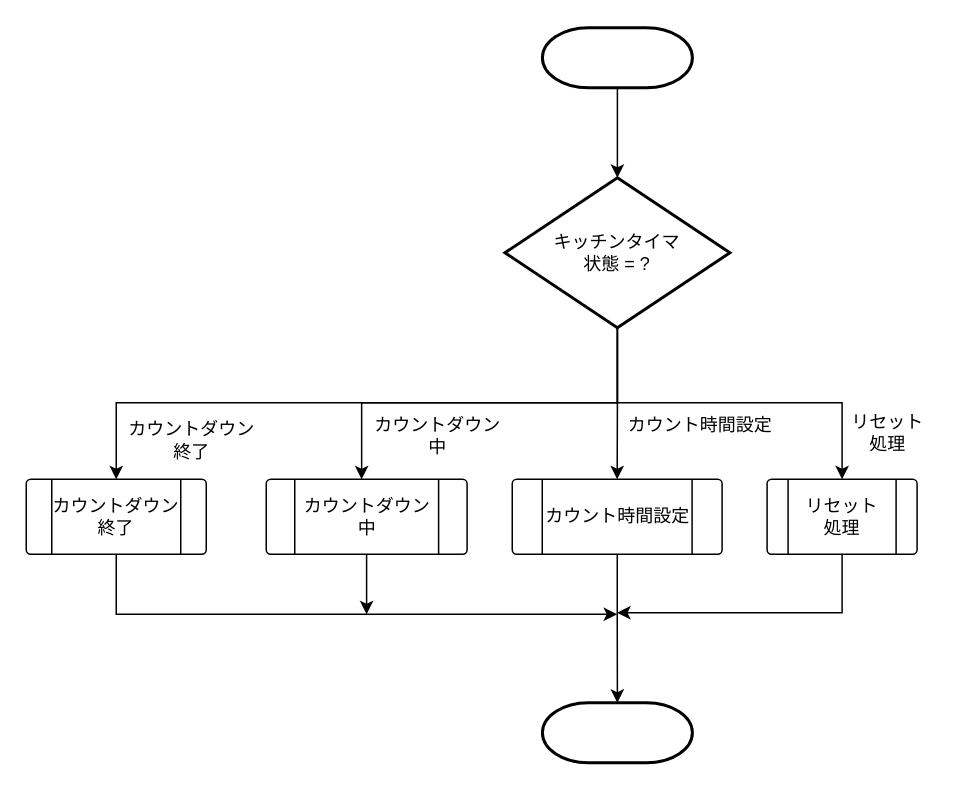
This 959x789 diagram has some shape labels left out. The centre of each missing label's shape, as x and y in pixels:
end: (x=616, y=732)
状態遷移処理: (x=616, y=57)
